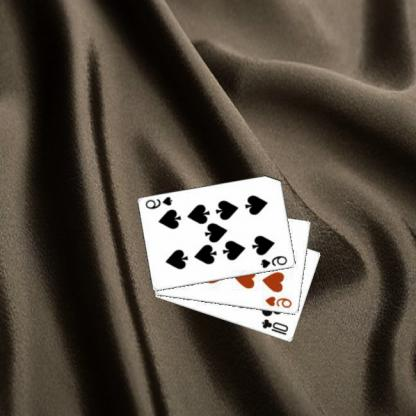10C: (260, 316, 292, 336)
9H: (264, 294, 295, 310)
9S: (260, 253, 290, 269), (145, 194, 175, 210)
